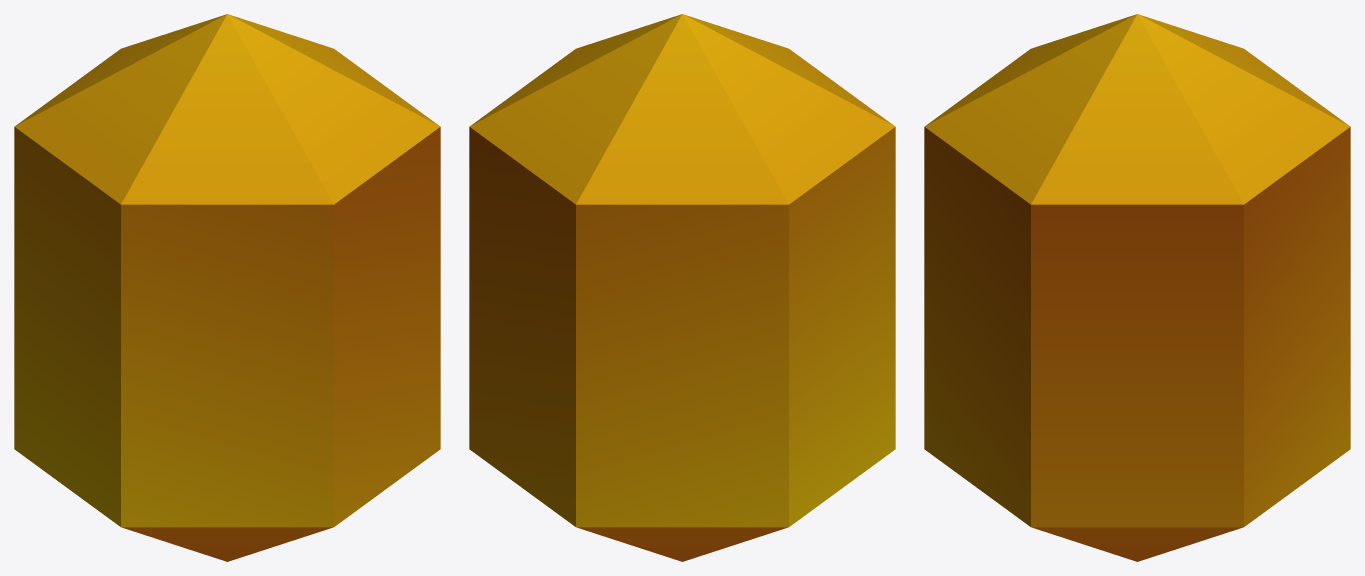
File: gem-topaz.glb
3 views of the same model, side by side, from view 1: azimuth 30°, elevation 25°; view 2: azimuth 150°, elevation 25°; view 3: azimuth 270°, elevation 25° (orthographic).
Parts seen in each view (by area): view 1: Topaz_01; view 2: Topaz_01; view 3: Topaz_01.
Part boxes in pixels (x1,y1,x2,y2): Topaz_01: (14, 14, 440, 561); Topaz_01: (469, 14, 895, 561); Topaz_01: (924, 14, 1350, 561).
Bounding box in the file's own units: 0.1608 × 0.2635 × 0.1857.
Materials: 1 (1 with a texture image).
